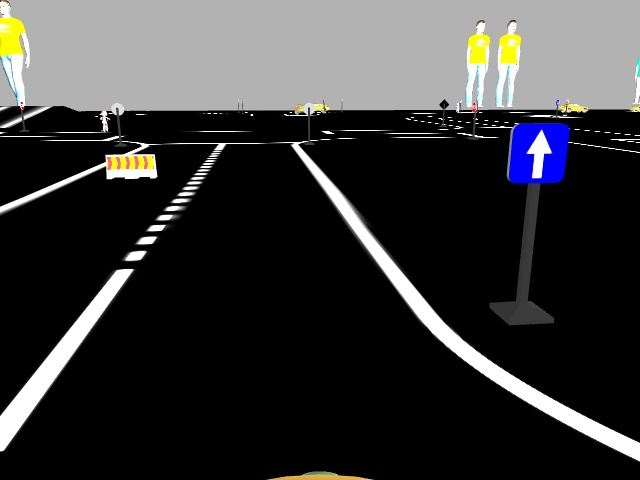ClosedRoadStand: (105, 155, 156, 176)
OneWay: (511, 125, 562, 179)
